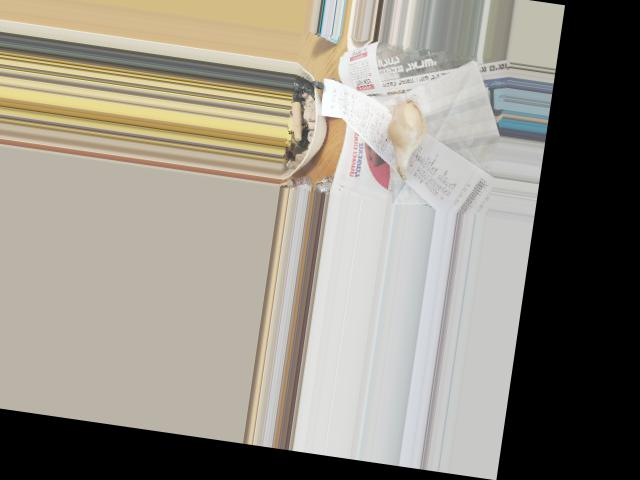onion: (386, 99, 430, 158)
